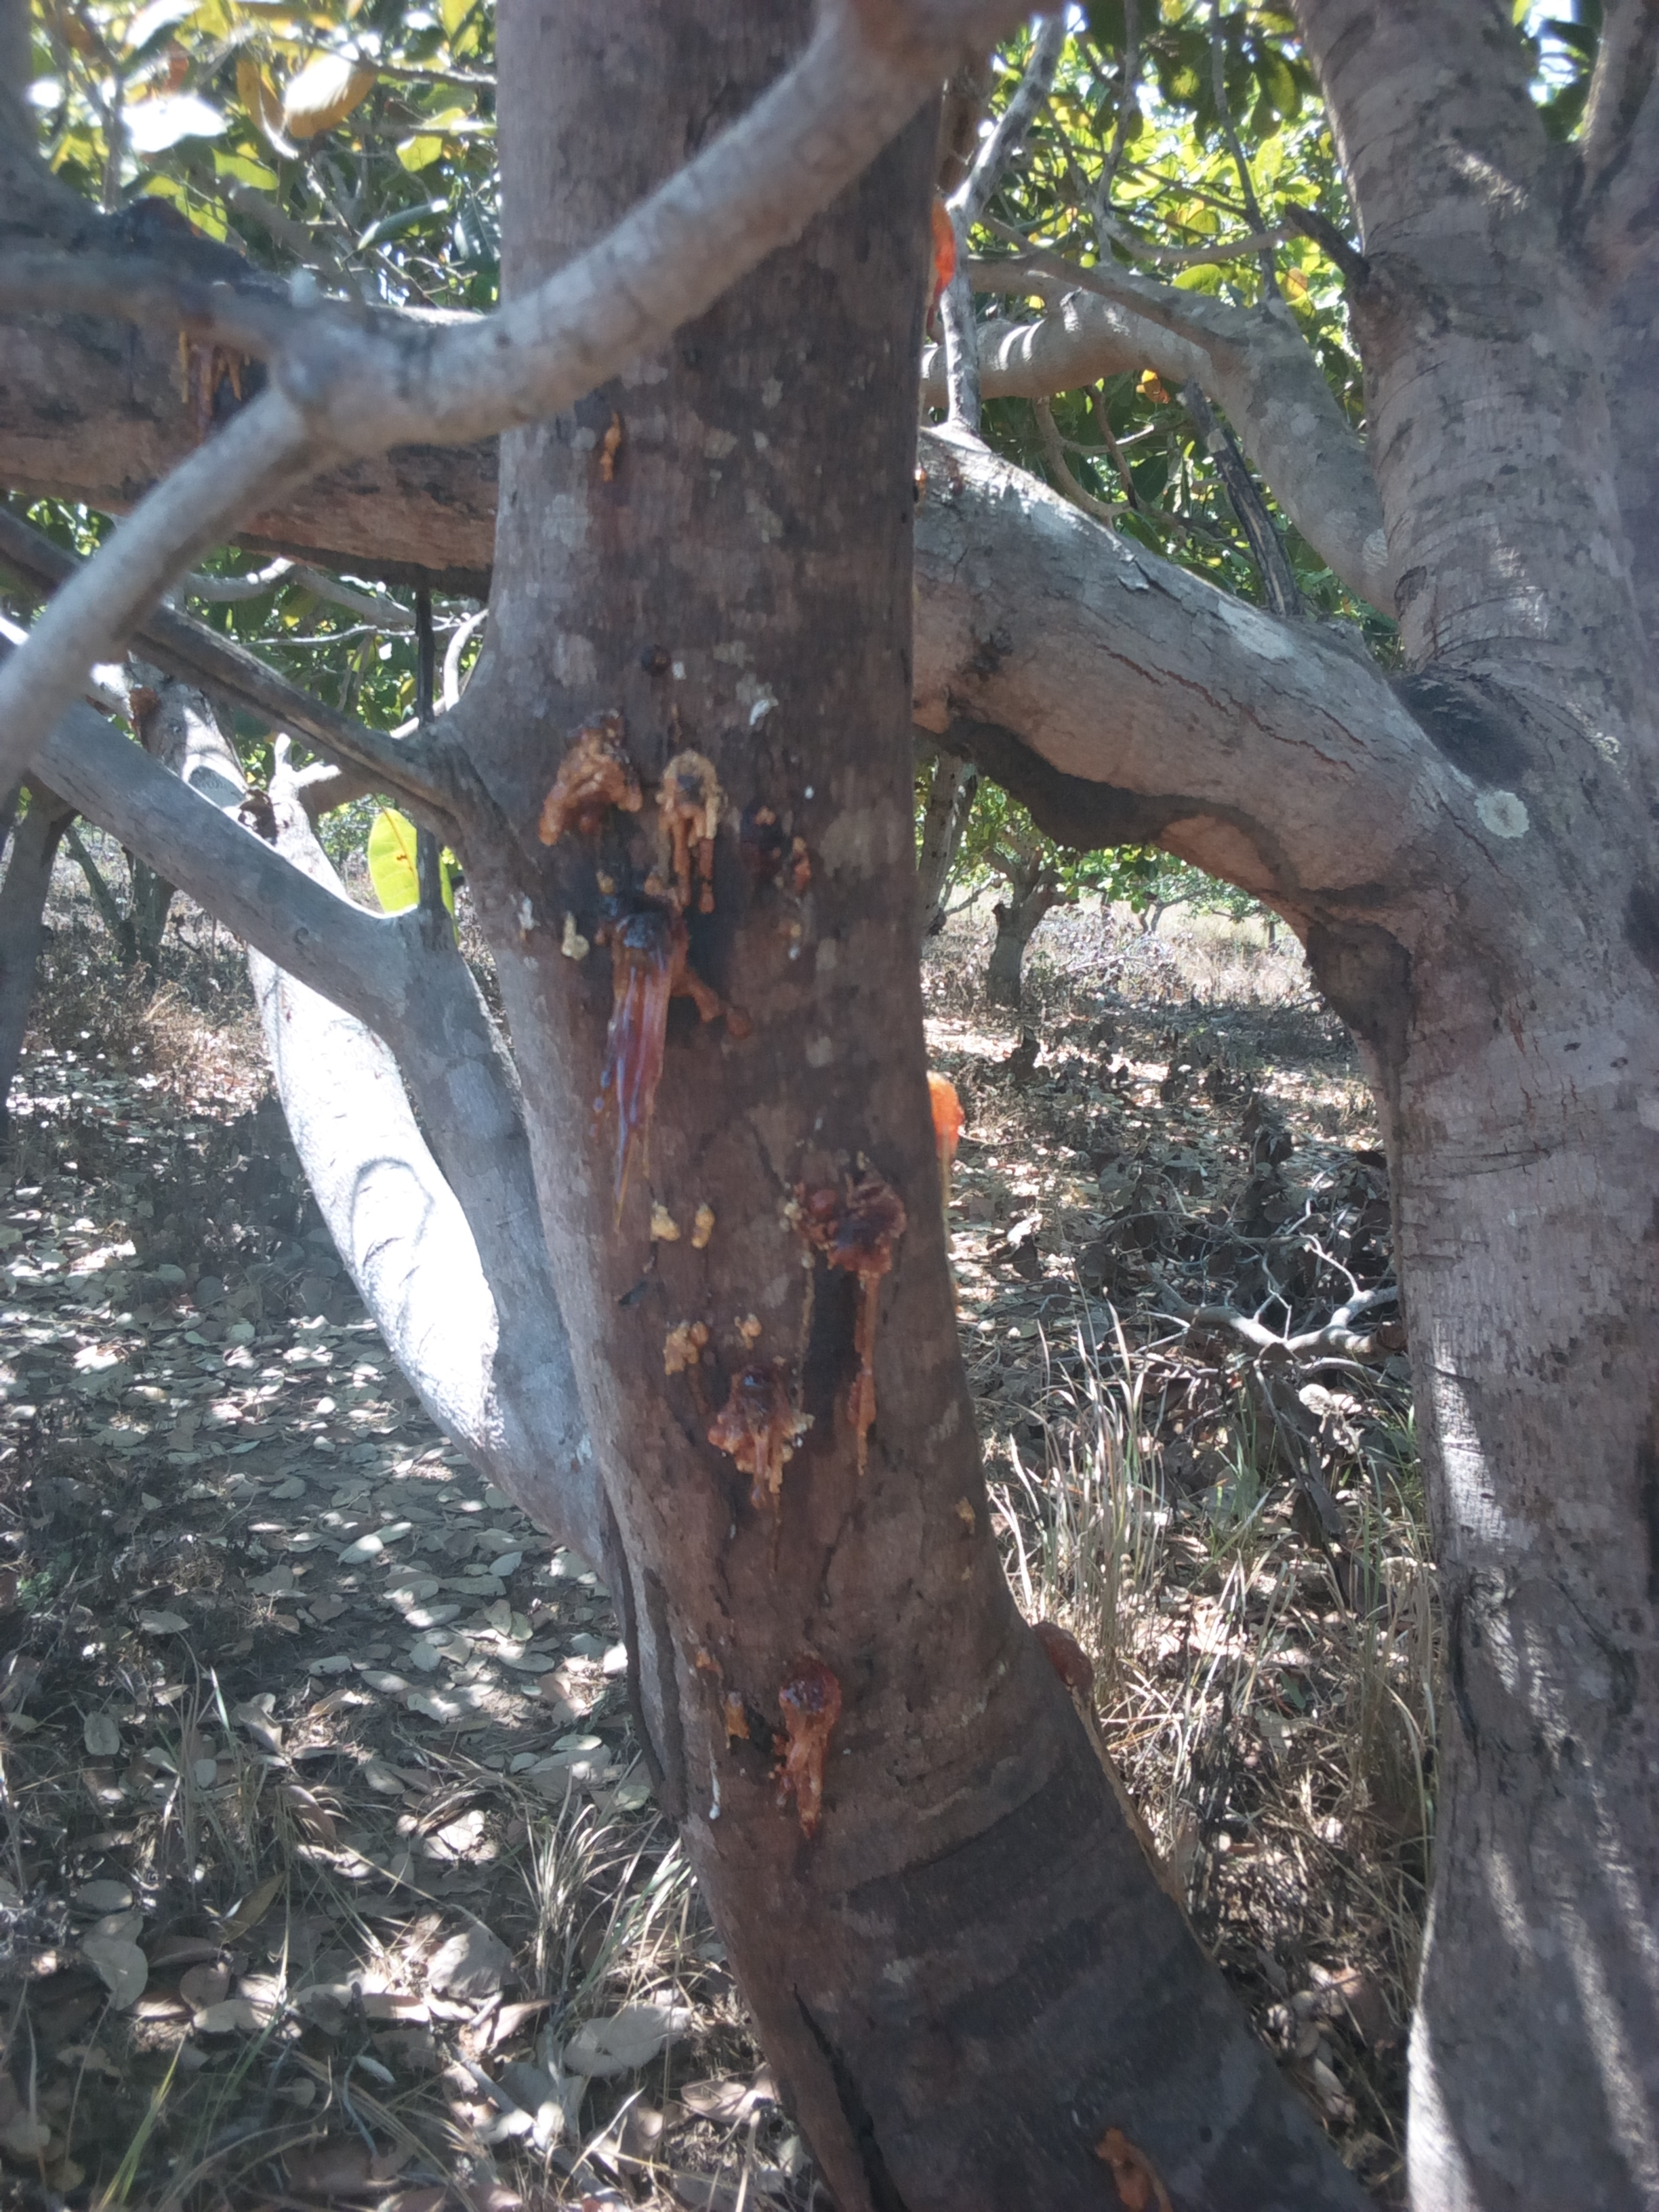Mecocorynus longiceps: (633, 1073, 948, 1587), (491, 655, 819, 1120), (647, 1580, 962, 1933)
